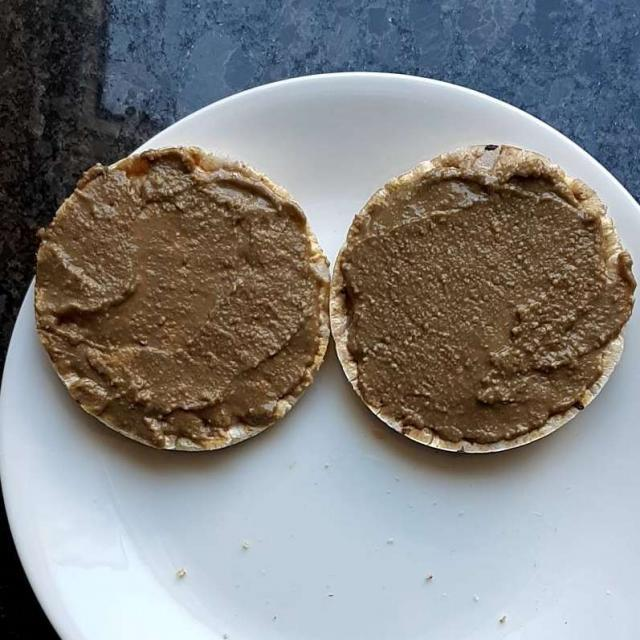butter: (44, 150, 625, 455)
